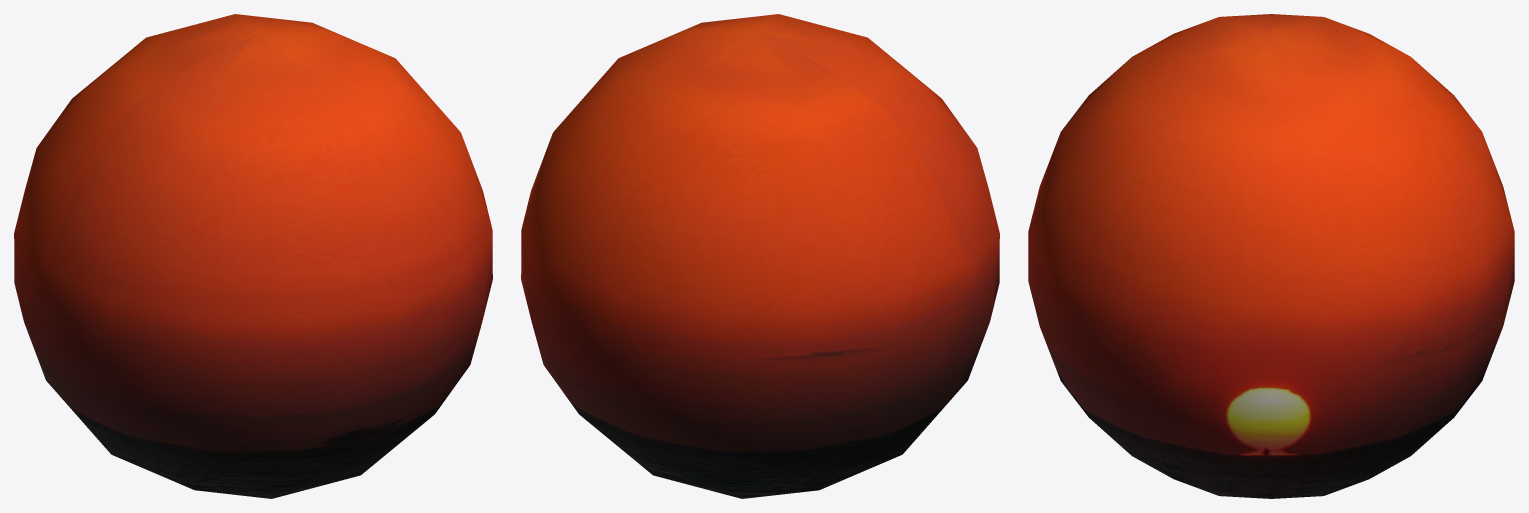
File: Yuuhi.FBX
3 views of the same model, side by side, from view 1: azimuth 30°, elevation 25°; view 2: azimuth 150°, elevation 25°; view 3: azimuth 270°, elevation 25° (orthographic).
Parts seen in each view (by area): view 1: Yuuyake_mdl; view 2: Yuuyake_mdl; view 3: Yuuyake_mdl.
Boxes of the visible parts, x1=… form: Yuuyake_mdl: x1=14, y1=14, x2=492, y2=498; Yuuyake_mdl: x1=521, y1=14, x2=999, y2=498; Yuuyake_mdl: x1=1028, y1=14, x2=1514, y2=498.
Size of the model in its own units: 70706 by 71750 by 70532.
1 material, 1 textured.
